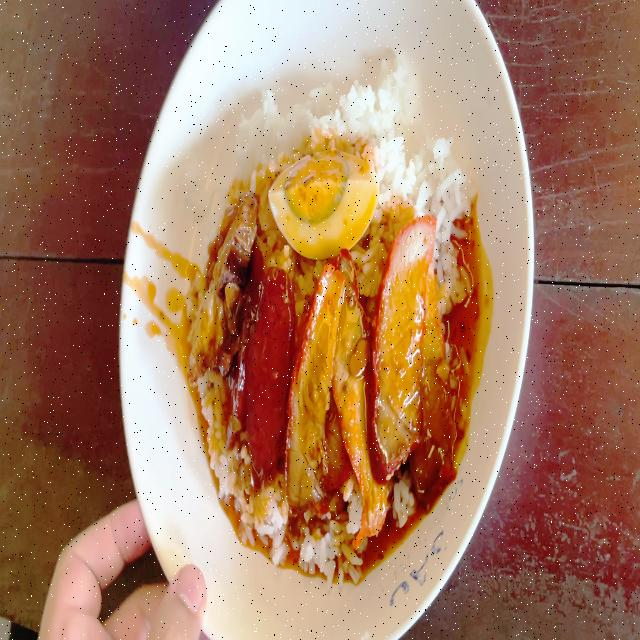boiled_egg: (277, 156, 377, 240)
chainese_sausage: (244, 268, 291, 468)
crispy_pork: (192, 192, 246, 374)
red_pork: (293, 257, 377, 521), (367, 212, 439, 484)
red_pork_and_crispy_pork: (193, 66, 476, 567)
rice: (234, 78, 412, 150), (382, 129, 458, 220)
